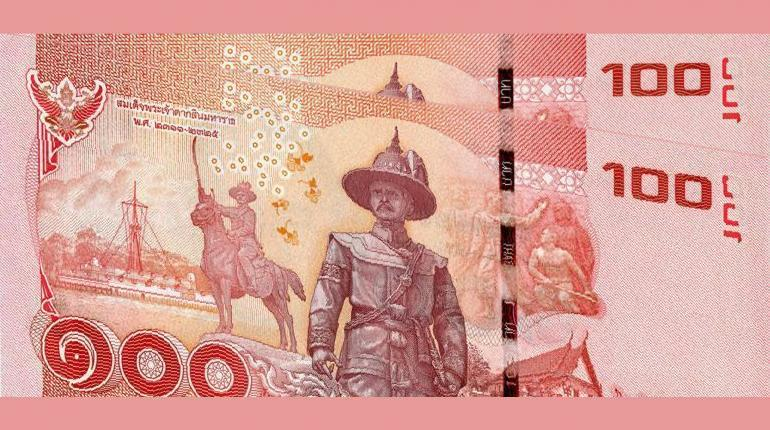100BahtTai: (3, 32, 767, 397)
